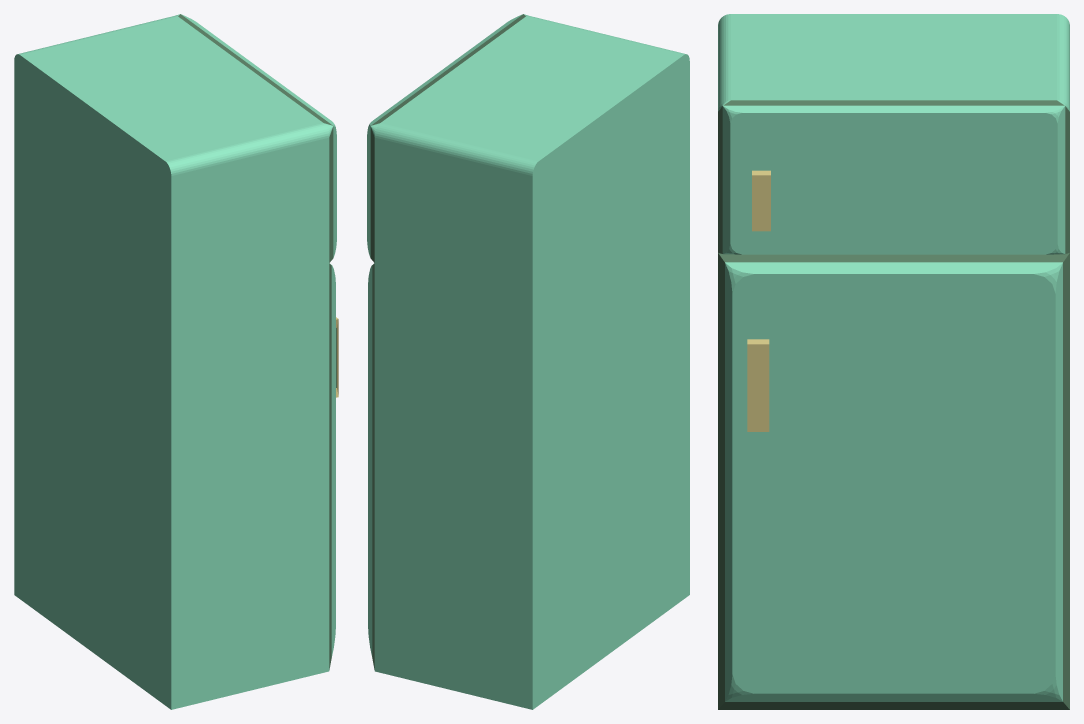
Rendered from Fridge_01.fbx.
3 renders of one model, left to right at view 1: azimuth 30°, elevation 25°; view 2: azimuth 150°, elevation 25°; view 3: azimuth 270°, elevation 25°, orthographic. The views are drawn at different scales.
Visible parts, largest first — view 1: Fridge_01; view 2: Fridge_01; view 3: Fridge_01.
Part boxes in pixels (x1,y1,x2,y2): Fridge_01: (14, 14, 338, 709); Fridge_01: (367, 14, 689, 709); Fridge_01: (718, 14, 1069, 709).
Size of the model in its own units: 290 by 836 by 438.
